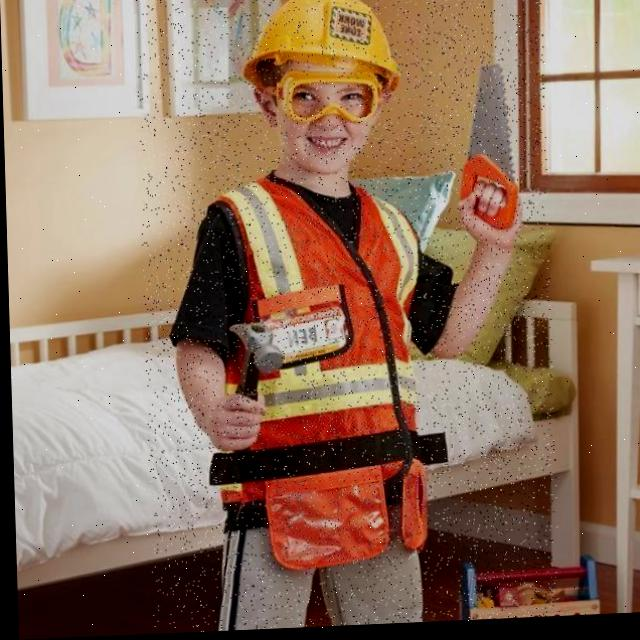Glass: (271, 81, 385, 132)
Helmet: (240, 0, 402, 102)
No-Glove: (453, 186, 527, 248), (202, 390, 265, 458)
Safety-Vest: (202, 170, 428, 576)
